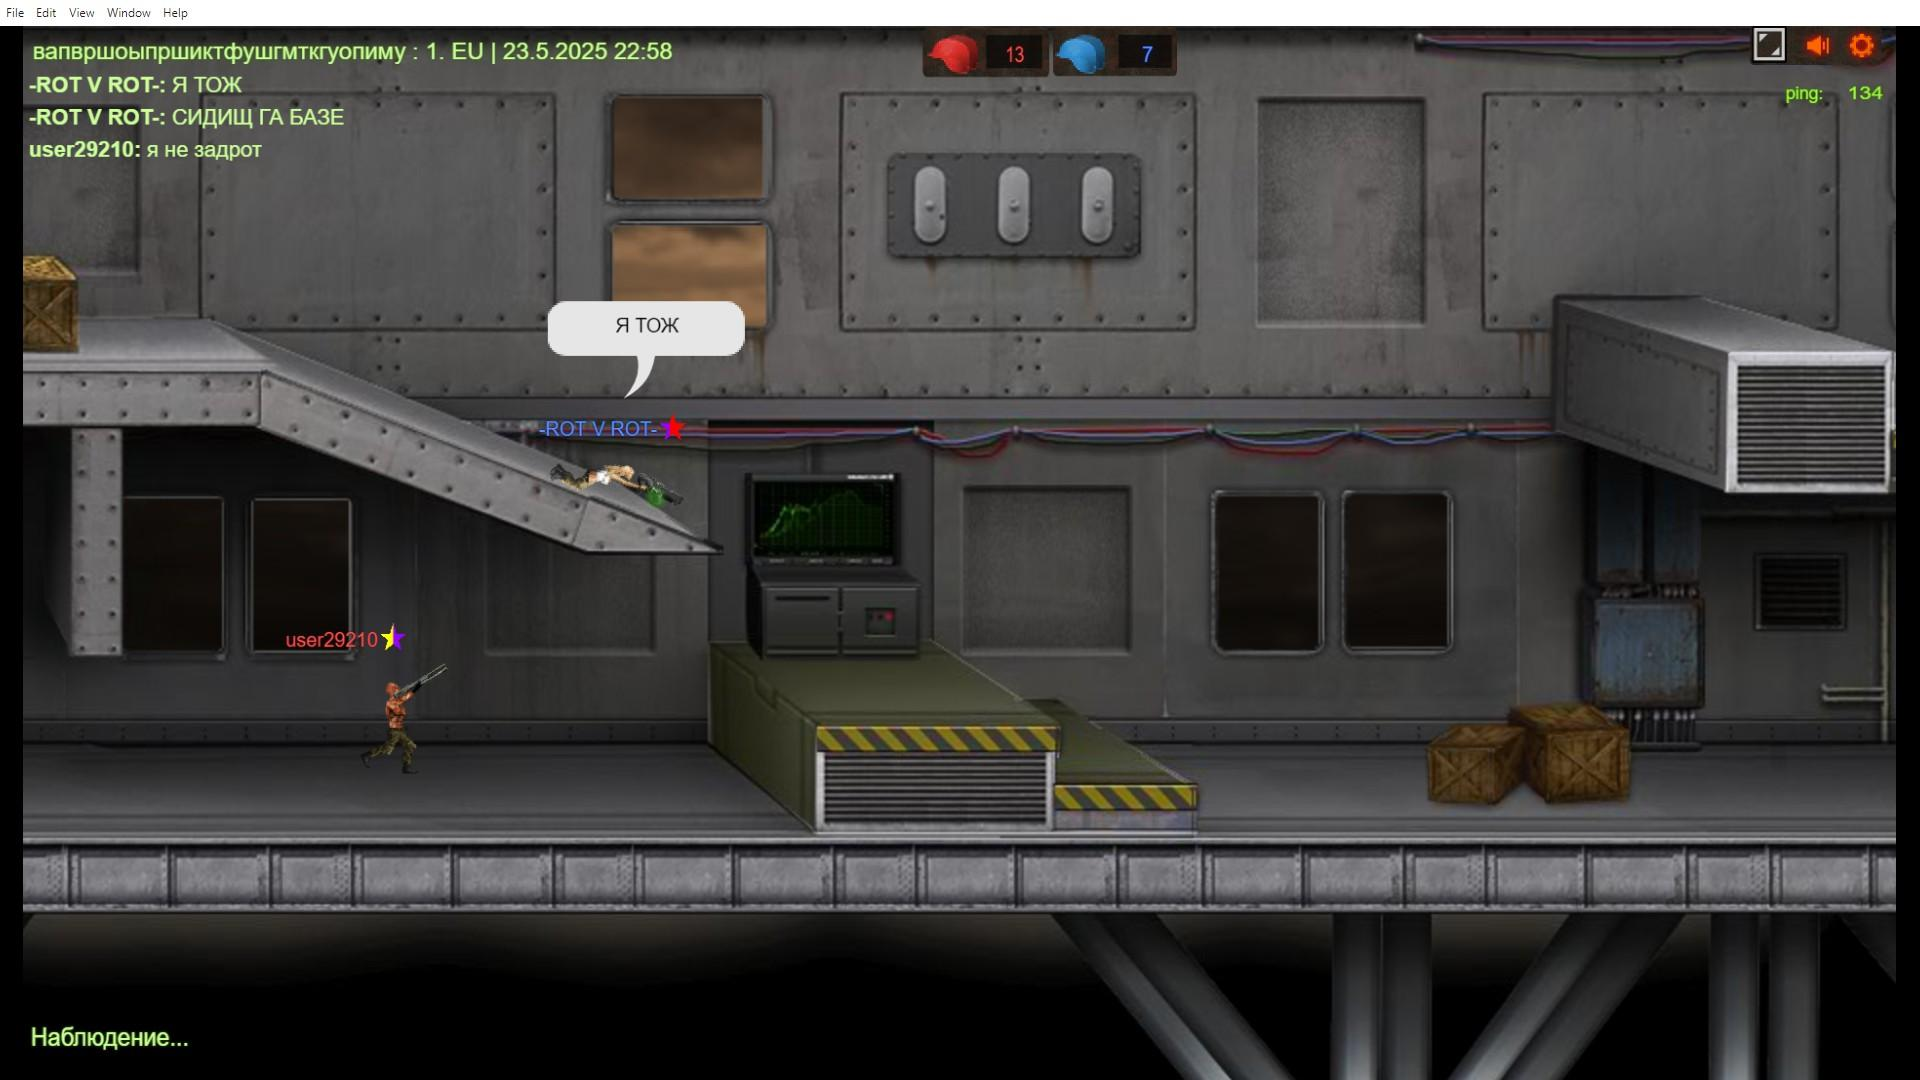enemy: (373, 673, 421, 787), (543, 452, 650, 497)
